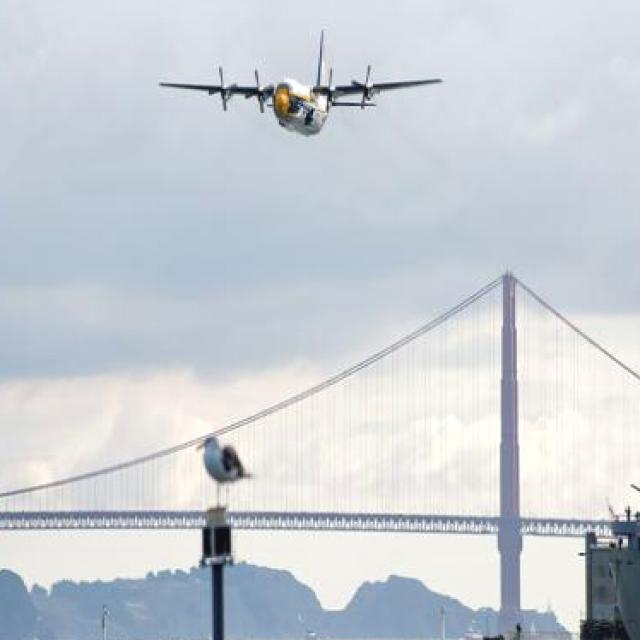ship: (608, 475, 640, 640)
